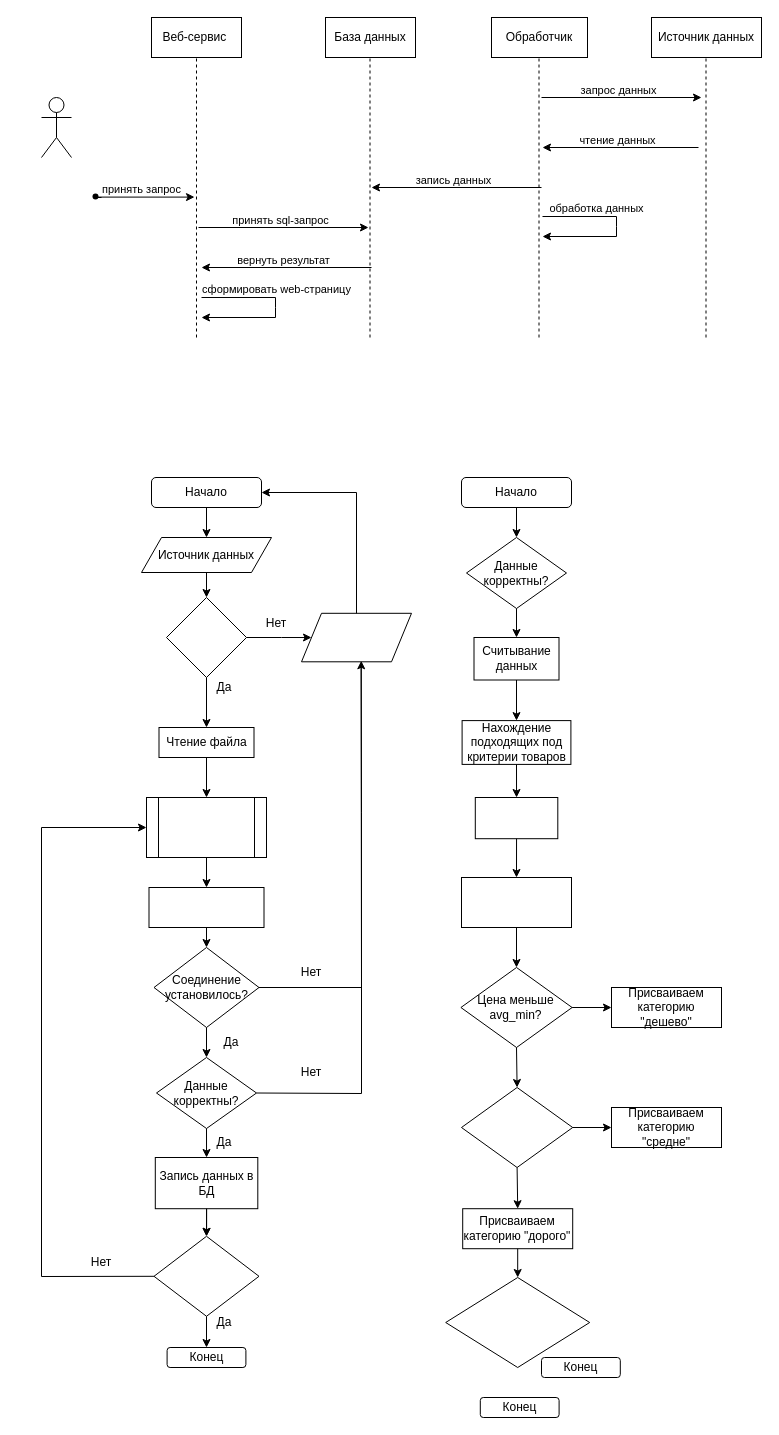
Some shapes in this 779 by 1435 pixel diagram are drawn without their labels. Each missing label, with the box of its shape:
Всем ли записям присвоены категории?: (445, 1276, 590, 1368)
Вывести сообщение об ошибке: (300, 612, 412, 662)
Есть ли сигнал завершения?: (153, 1235, 259, 1316)
Запрос в БД: (148, 886, 264, 928)
Источник открылся?: (166, 596, 246, 678)
Нахождение avg_min, avg_max цены: (460, 876, 572, 928)
Нахождение min, max, avg цены: (474, 796, 558, 839)
Обработка файлов: (146, 796, 266, 858)
Пользователь: (40, 96, 72, 158)
Цена меньше avg_max?: (460, 1086, 573, 1168)
